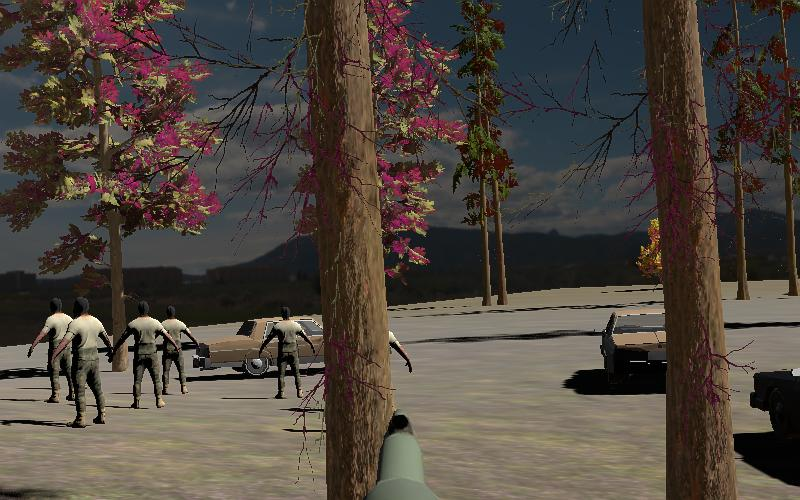Human: (54, 292, 117, 431), (111, 295, 180, 411), (25, 293, 83, 405), (259, 309, 317, 400)
car: (191, 314, 322, 380), (746, 332, 800, 473), (598, 306, 667, 390)
